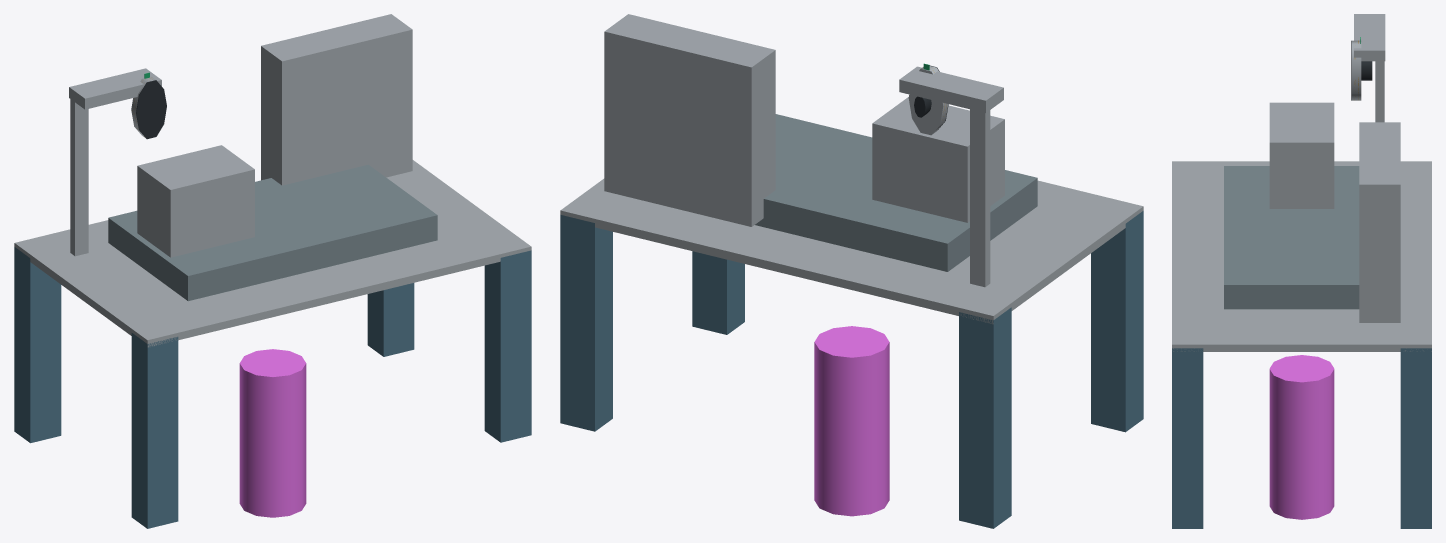
The picture shows the model from 3 angles, left to right: view 1: azimuth 30°, elevation 25°; view 2: azimuth 150°, elevation 25°; view 3: azimuth 270°, elevation 25°; orthographic projection. The views are drawn at different scales.
Parts seen in each view (by area): view 1: g4, g0006, g0003, visualJoint, g0005, g1, g3, g0, g2, g0004, g0002, g1001; view 2: g0006, g4, g0003, visualJoint, g0, g2, g0005, g1, g3, g0004, g0002, g0001; view 3: g4, g0003, visualJoint, g0006, g0005, g2, g3, g0002, g0004, g0001.
Part boxes in pixels (left/top/right/bottom): g4: left=14, top=160, right=531, bottom=347; g0006: left=261, top=14, right=412, bottom=185; g0003: left=108, top=164, right=437, bottom=301; visualJoint: left=239, top=349, right=306, bottom=517; g0005: left=137, top=145, right=254, bottom=257; g1: left=131, top=333, right=178, bottom=528; g3: left=484, top=250, right=531, bottom=442; g0: left=14, top=247, right=61, bottom=443; g2: left=367, top=283, right=414, bottom=356; g0004: left=70, top=99, right=88, bottom=256; g0002: left=69, top=68, right=161, bottom=109; g1001: left=136, top=80, right=166, bottom=139; g0006: left=604, top=14, right=775, bottom=226; g4: left=560, top=178, right=1143, bottom=324; g0003: left=755, top=114, right=1037, bottom=271; visualJoint: left=814, top=326, right=889, bottom=516; g0: left=959, top=307, right=1011, bottom=528; g2: left=560, top=214, right=612, bottom=431; g0005: left=872, top=97, right=1004, bottom=222; g1: left=1091, top=211, right=1143, bottom=432; g3: left=692, top=251, right=744, bottom=334; g0004: left=970, top=109, right=990, bottom=287; g0002: left=899, top=66, right=1003, bottom=112; g0001: left=908, top=66, right=948, bottom=135; g4: left=1172, top=161, right=1431, bottom=351; g0003: left=1224, top=166, right=1359, bottom=309; visualJoint: left=1269, top=355, right=1334, bottom=519; g0006: left=1359, top=122, right=1400, bottom=322; g0005: left=1269, top=102, right=1334, bottom=208; g2: left=1400, top=348, right=1431, bottom=528; g3: left=1172, top=348, right=1203, bottom=528; g0002: left=1354, top=14, right=1385, bottom=61; g0004: left=1375, top=61, right=1384, bottom=122; g0001: left=1352, top=40, right=1361, bottom=100.
Bounding box in the file's own units: 2 × 2.15 × 1.2.
